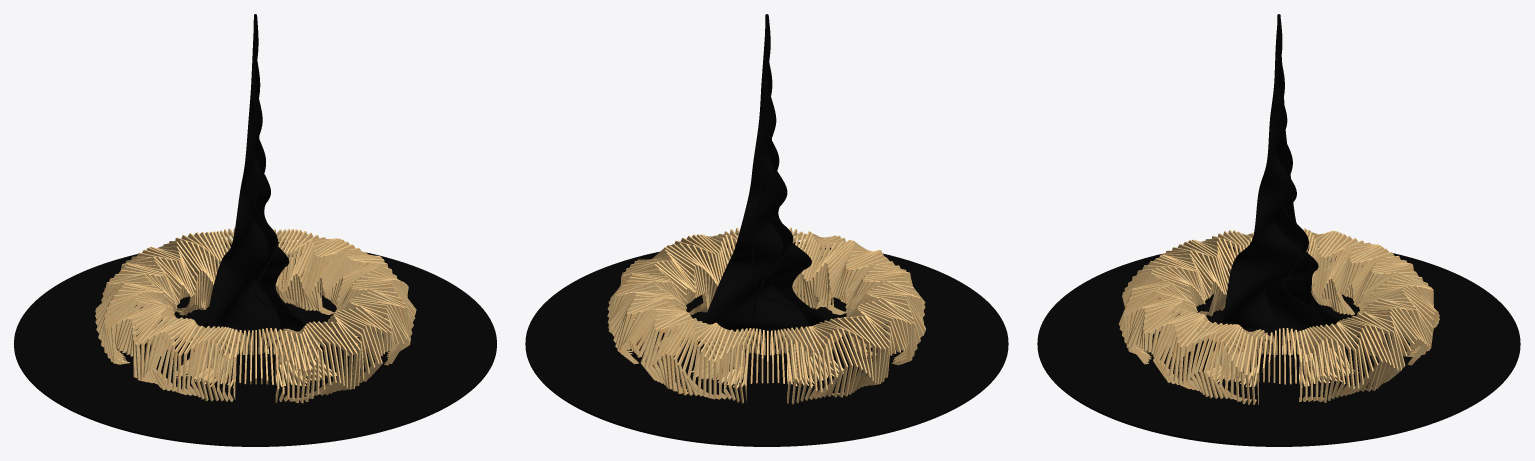
3 views of the same model, side by side, from view 1: azimuth 30°, elevation 25°; view 2: azimuth 150°, elevation 25°; view 3: azimuth 270°, elevation 25° (orthographic).
Visible parts, largest first — view 1: Layer 03, Layer 01, Layer 02, Layer 04, Layer 05; view 2: Layer 03, Layer 01, Layer 02, Layer 04, Layer 05; view 3: Layer 03, Layer 01, Layer 02, Layer 04, Layer 05.
Boxes of the visible parts, left/top/right/bottom form: Layer 03: left=14, top=241, right=496, bottom=446; Layer 01: left=95, top=229, right=416, bottom=403; Layer 02: left=102, top=227, right=408, bottom=402; Layer 04: left=205, top=14, right=304, bottom=372; Layer 05: left=202, top=14, right=305, bottom=376; Layer 03: left=525, top=241, right=1008, bottom=446; Layer 01: left=607, top=229, right=925, bottom=401; Layer 02: left=615, top=227, right=914, bottom=404; Layer 04: left=705, top=19, right=824, bottom=330; Layer 05: left=703, top=14, right=828, bottom=370; Layer 03: left=1037, top=242, right=1520, bottom=446; Layer 01: left=1118, top=229, right=1439, bottom=404; Layer 02: left=1127, top=228, right=1431, bottom=404; Layer 04: left=1222, top=19, right=1338, bottom=367; Layer 05: left=1221, top=14, right=1340, bottom=370.
Bounding box in the file's own units: 60 × 60 × 46.52.
3 materials, 1 textured.
